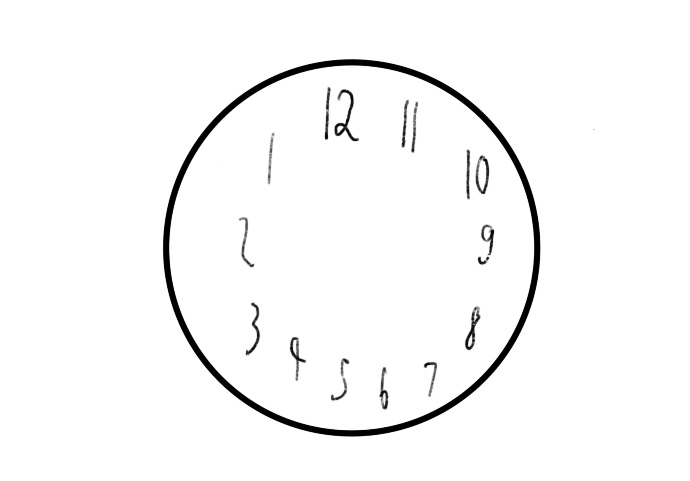eight: (459, 300, 483, 351)
eleven: (398, 94, 422, 156)
five: (332, 352, 353, 408)
four: (288, 332, 310, 389)
nine: (475, 219, 497, 272)
one: (266, 132, 276, 184)
seven: (420, 358, 441, 398)
six: (373, 367, 392, 415)
ten: (460, 147, 494, 200)
three: (242, 298, 263, 358)
twelve: (323, 82, 360, 142)
two: (236, 208, 259, 270)
